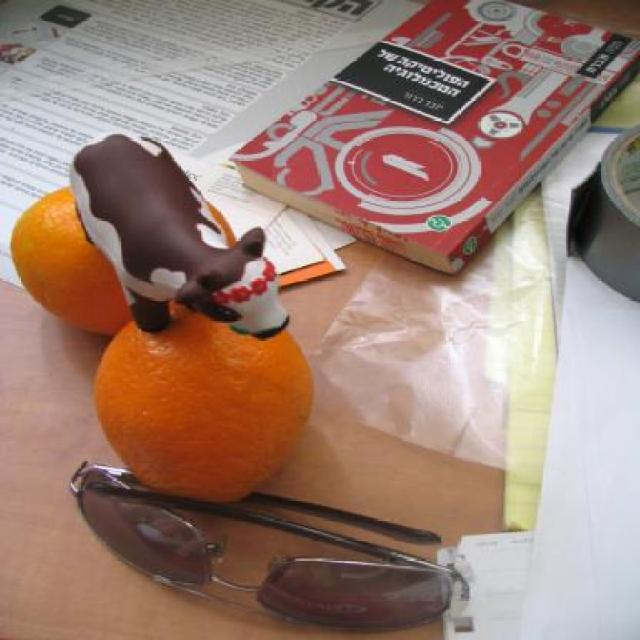Orange: (95, 302, 314, 500), (8, 188, 237, 337)
